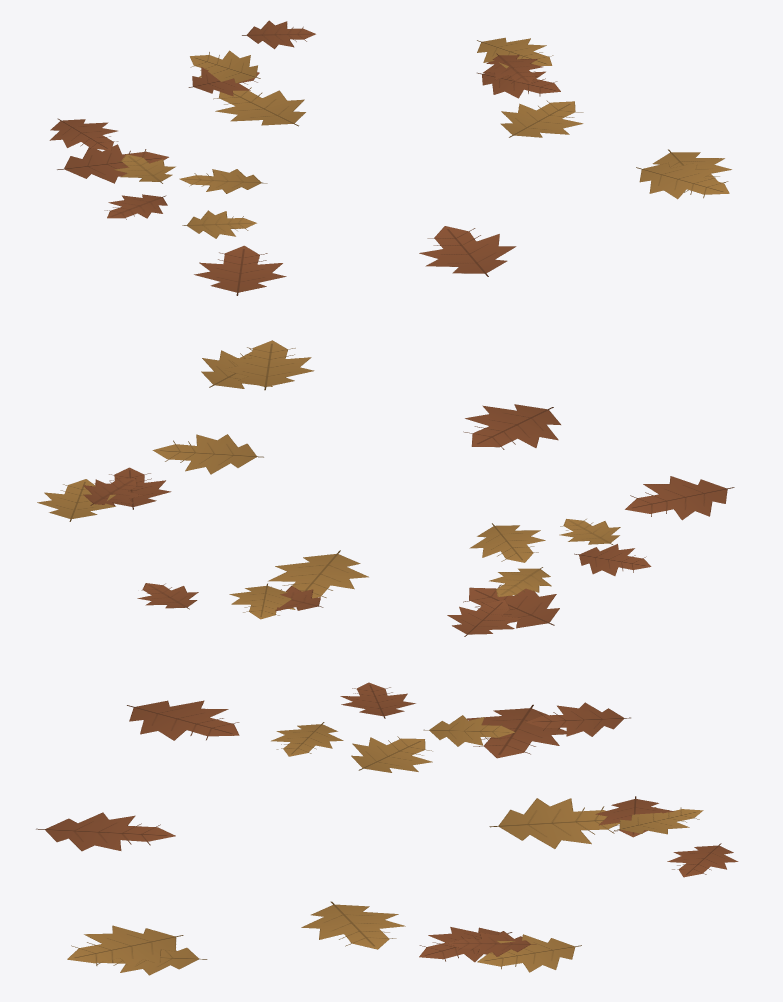
Rendered from Furn_LeafLitter_A.fbx.
The picture shows the model from 3 angles, top to bottom: view 1: azimuth 30°, elevation 25°; view 2: azimuth 150°, elevation 25°; view 3: azimuth 270°, elevation 25°; orthographic projection. The views are drawn at different scales.
Visible parts, largest first — view 1: Furn_LeafLitter_A; view 2: Furn_LeafLitter_A; view 3: Furn_LeafLitter_A.
Part boxes in pixels (<box>): Furn_LeafLitter_A: <box>49,20,731,295</box>; Furn_LeafLitter_A: <box>37,340,734,636</box>; Furn_LeafLitter_A: <box>36,682,738,975</box>.
Bounding box in the file's own units: 1.5 × 0.05 × 1.5.
Materials: 1 (1 with a texture image).
